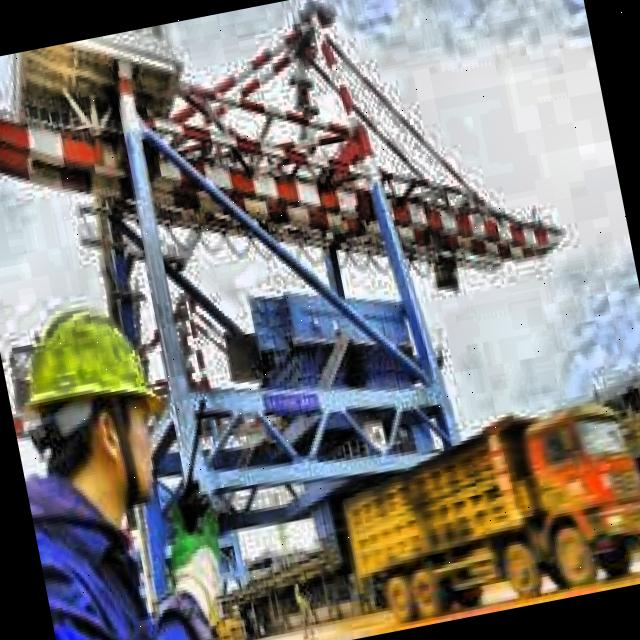helmet: (0, 268, 190, 525)
